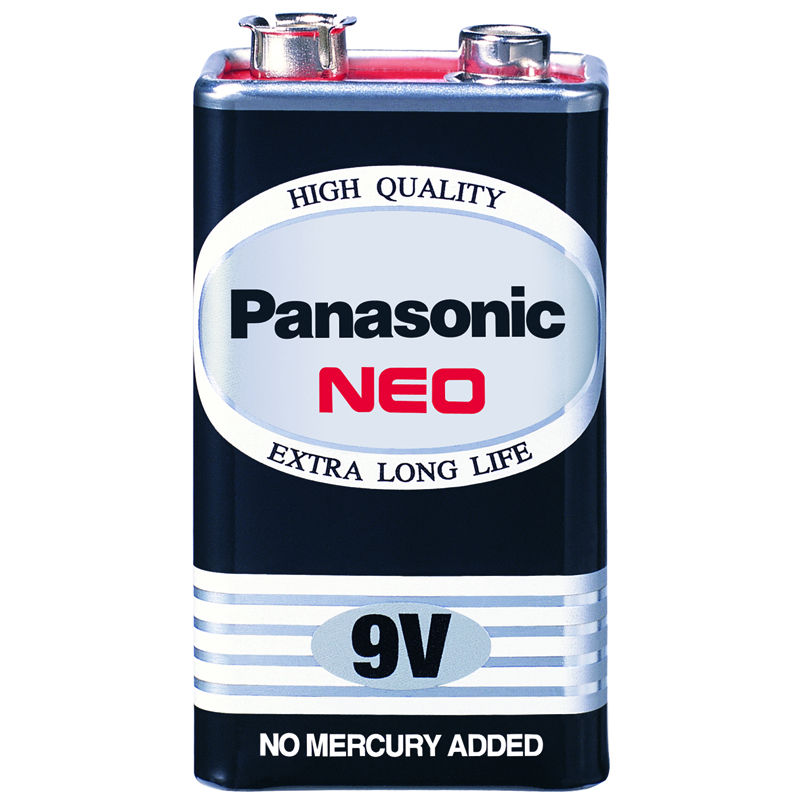Battery: (190, 10, 613, 794)
